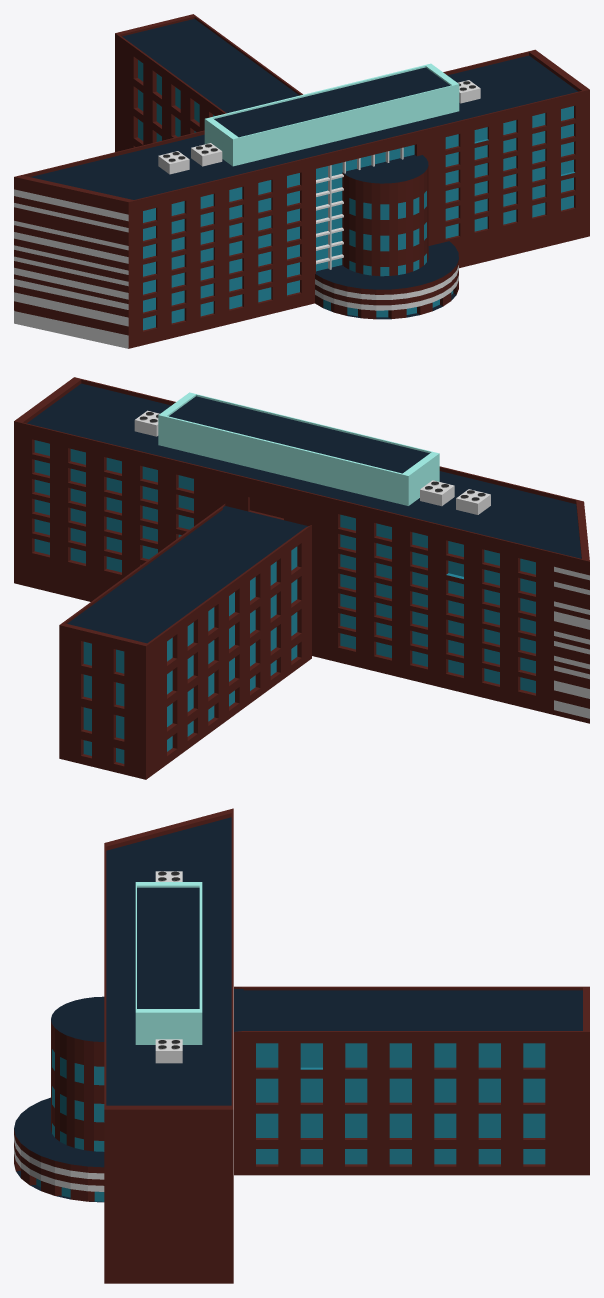
File: IDKThisBuilding.fbx
3 views of the same model, one above another, from view 1: azimuth 30°, elevation 25°; view 2: azimuth 150°, elevation 25°; view 3: azimuth 270°, elevation 25° (orthographic). The views are drawn at different scales.
Parts seen in each view (by area): view 1: Main, Connector, Cube, Cylinder.001, Cylinder, AC, AC.02; view 2: Main, Connector, Cube, AC, AC.02, AC.03; view 3: Connector, Main, Cube, Cylinder.001, Cylinder, AC.03.
Boxes of the visible parts, x1,y1,x2,y2 form: Main: (14, 49, 589, 348); Connector: (115, 14, 302, 151); Cube: (204, 63, 459, 166); Cylinder.001: (342, 154, 428, 276); Cylinder: (315, 241, 458, 319); AC: (163, 143, 222, 166); AC.02: (158, 151, 189, 174); Main: (14, 377, 589, 723); Connector: (59, 504, 311, 779); Cube: (158, 392, 439, 505); AC: (420, 480, 485, 506); AC.02: (456, 489, 490, 514); AC.03: (134, 410, 159, 436); Connector: (234, 986, 589, 1175); Main: (104, 808, 233, 1283); Cube: (135, 882, 202, 1044); Cylinder.001: (51, 996, 104, 1151); Cylinder: (14, 1097, 104, 1202); AC.03: (155, 1039, 182, 1063).
Size of the model in its own units: 10449 by 3318 by 8439.
